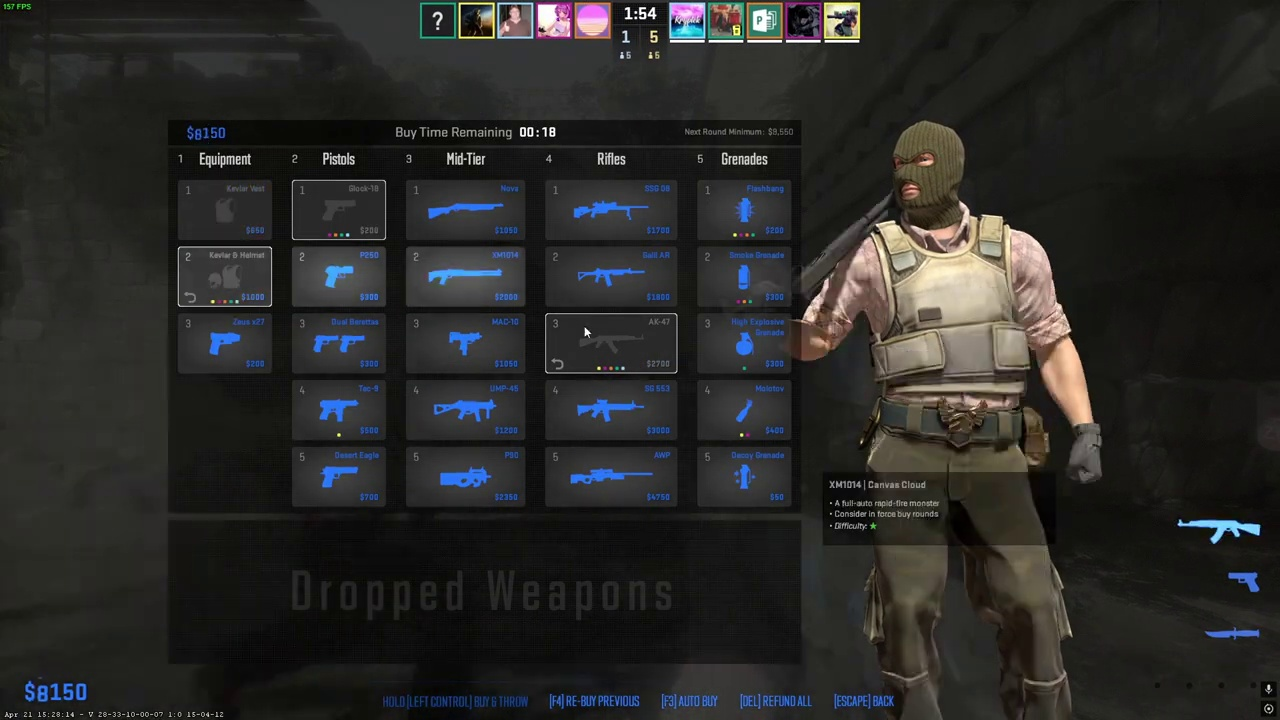Terrorist: (848, 120, 1078, 720)
